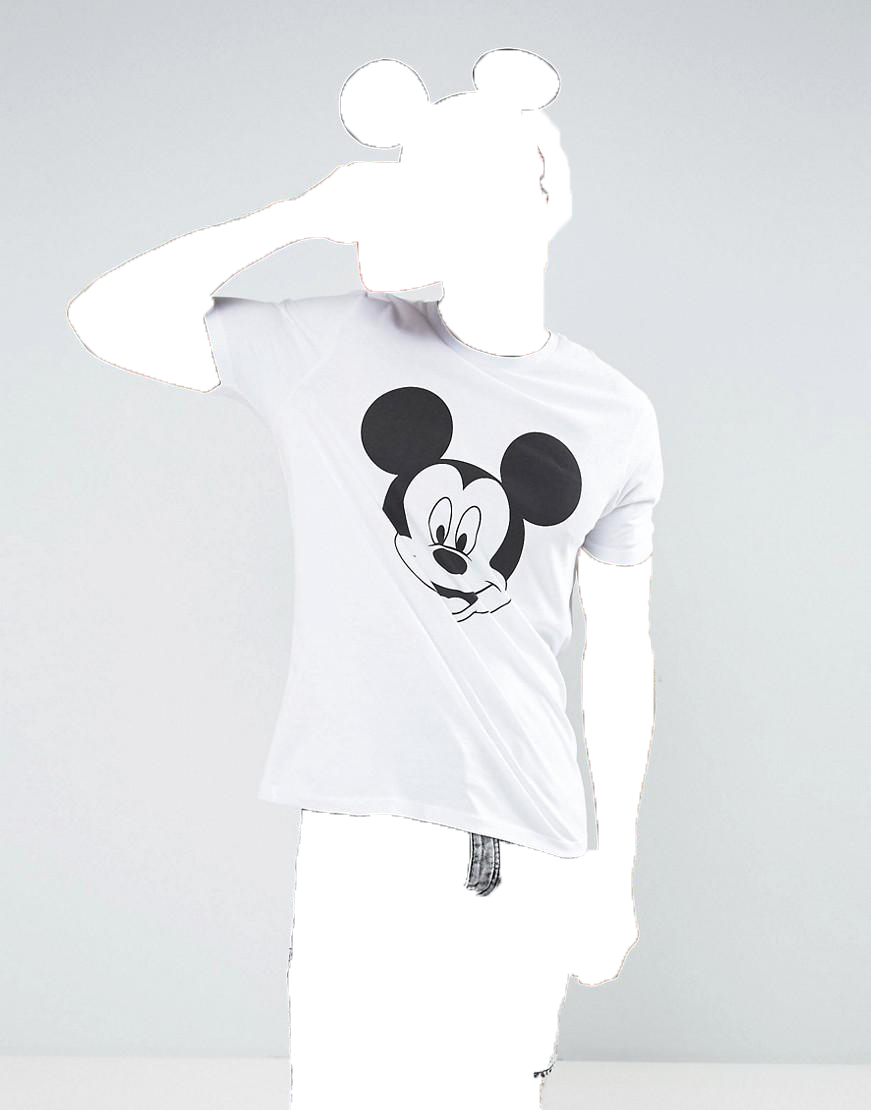teeshirt: (174, 281, 669, 864)
